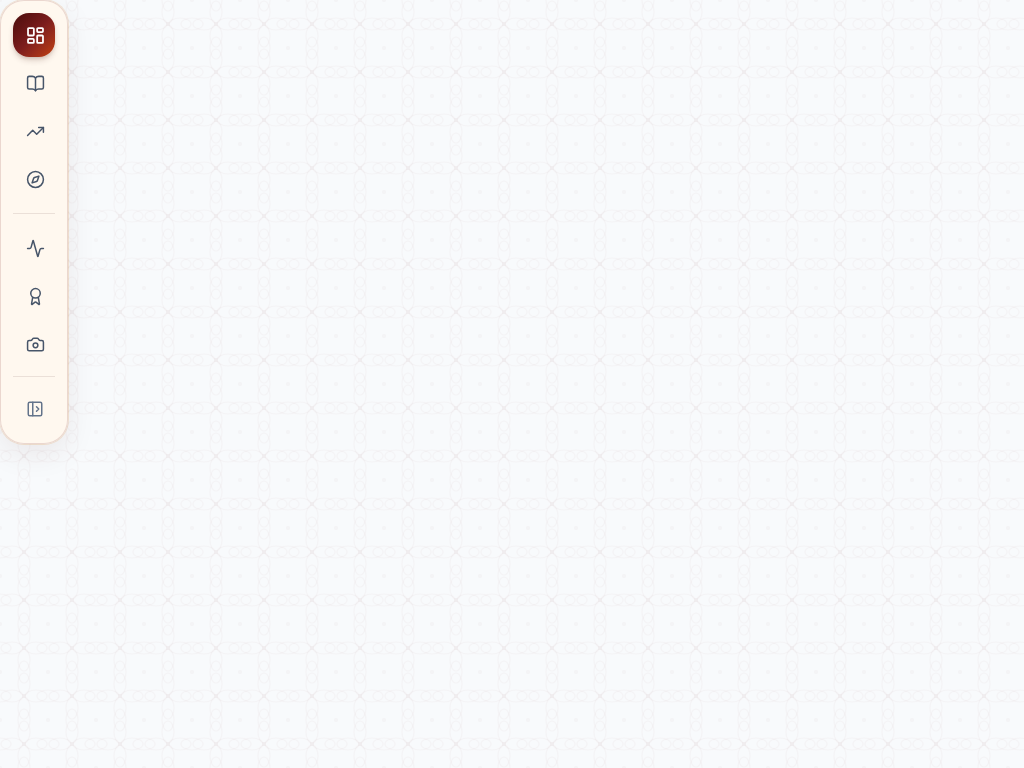
it: RoleIconRail 4-role adaptive navigation › smoothly expands/collapses desktop rail while keeping label spans mounted
The width and height of the screenshot is (1024, 768).
Click the button named "Lebarkan sidebar". click: (34, 409)
box: [13, 387, 55, 431]
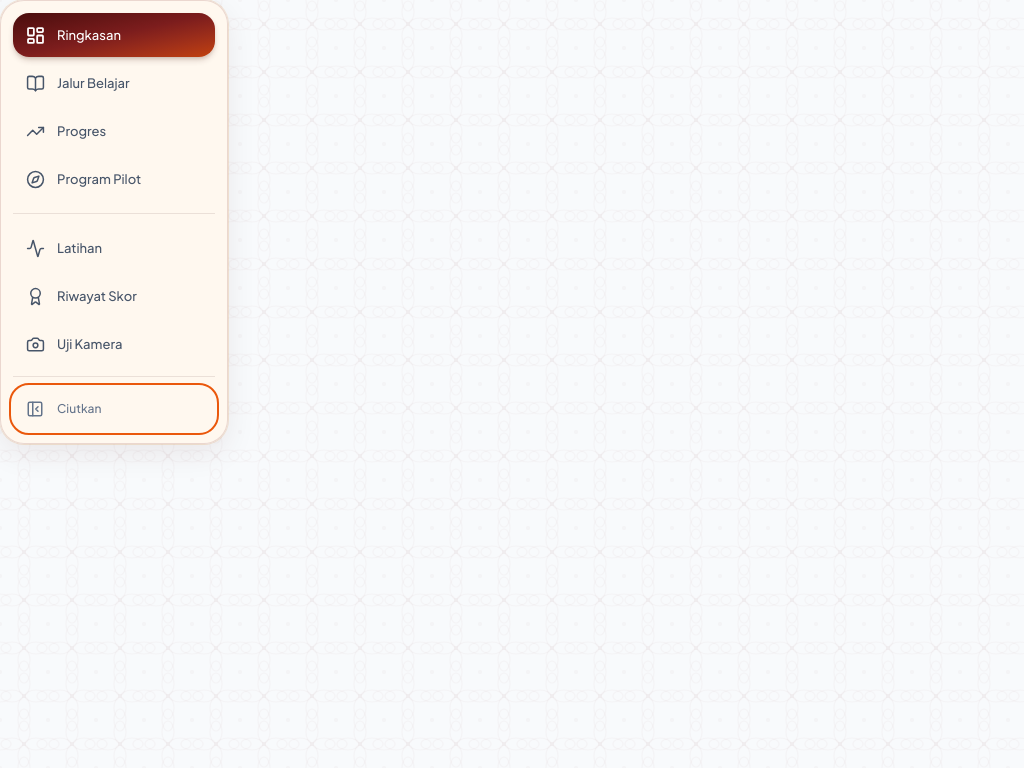
Result: the button with aria-label "Ciutkan sidebar" is expanded at [13, 387, 215, 431]
